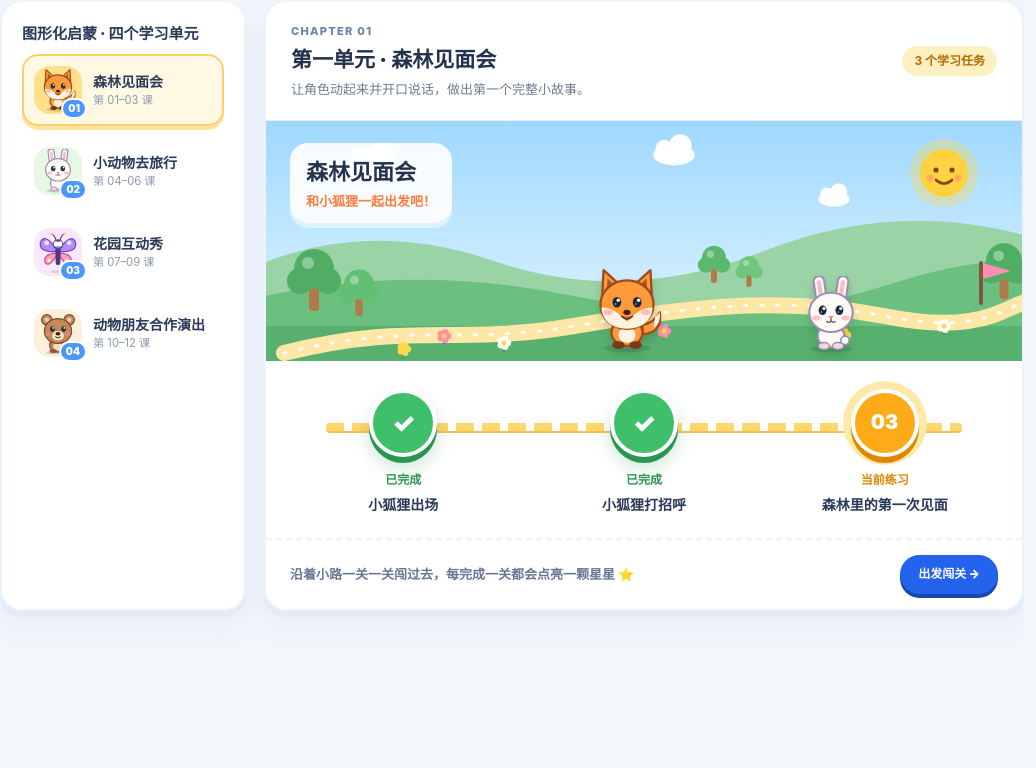
Test case: MapView › never locks lessons after the current one: they stay available and linked
Click the button with test id "adventure-map-unit-unit-2-meadow-journey" at [123, 171], box [22, 135, 224, 207]
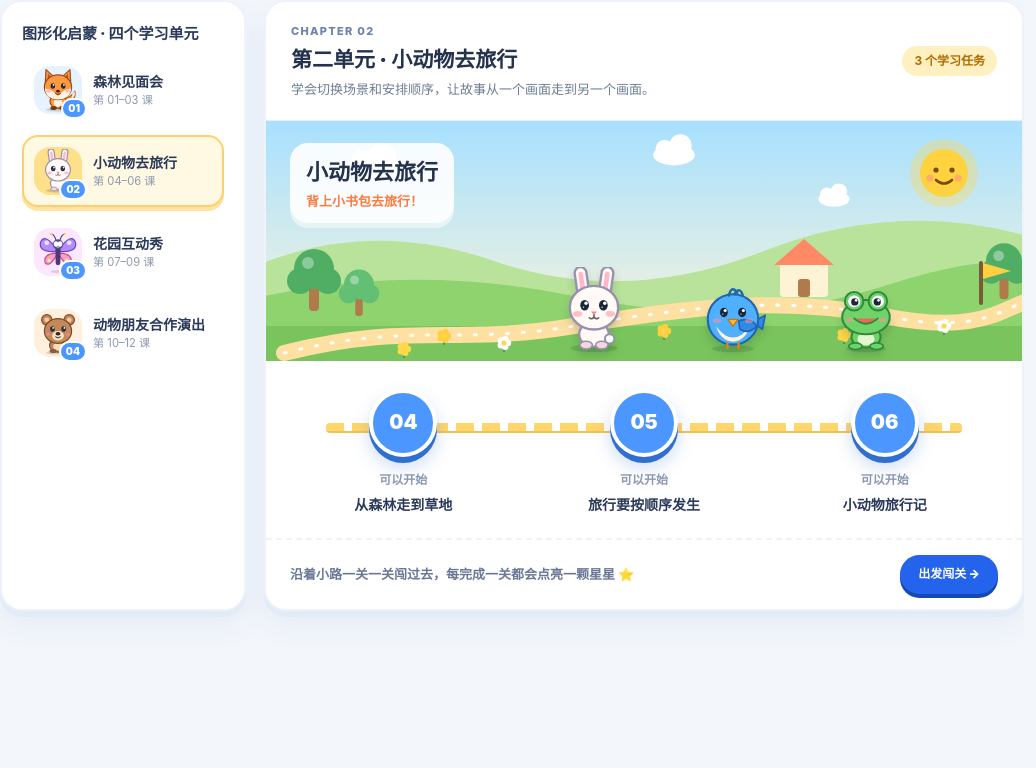
Expected: the link with test id "lesson-card-lesson-04-meadow-scene" shows "可以开始", [354, 389, 452, 513]
